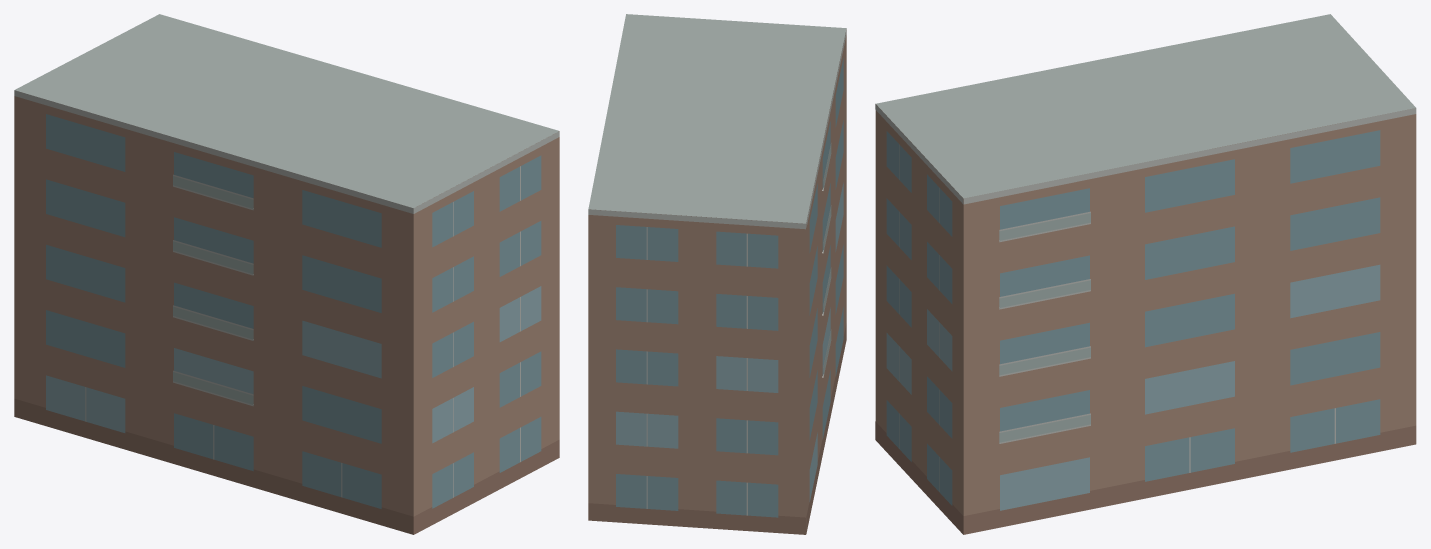
The model's file is survey-upis-33018036.glb.
3 renders of one model, left to right at view 1: azimuth 30°, elevation 25°; view 2: azimuth 150°, elevation 25°; view 3: azimuth 270°, elevation 25°, orthographic. The views are drawn at different scales.
Visible parts, largest first — view 1: survey-upis-33018036.tmp; view 2: survey-upis-33018036.tmp; view 3: survey-upis-33018036.tmp.
Boxes of the visible parts, x1,y1,x2,y2 form: survey-upis-33018036.tmp: (14, 14, 559, 534); survey-upis-33018036.tmp: (588, 14, 846, 534); survey-upis-33018036.tmp: (875, 14, 1416, 534).
Bounding box in the file's own units: 16.07 × 13.65 × 19.9.
